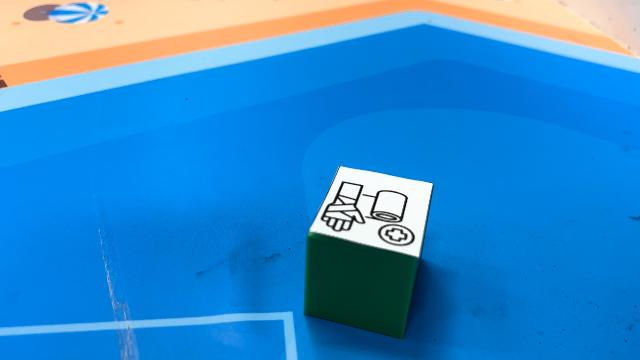bandage: (302, 165, 433, 339)
